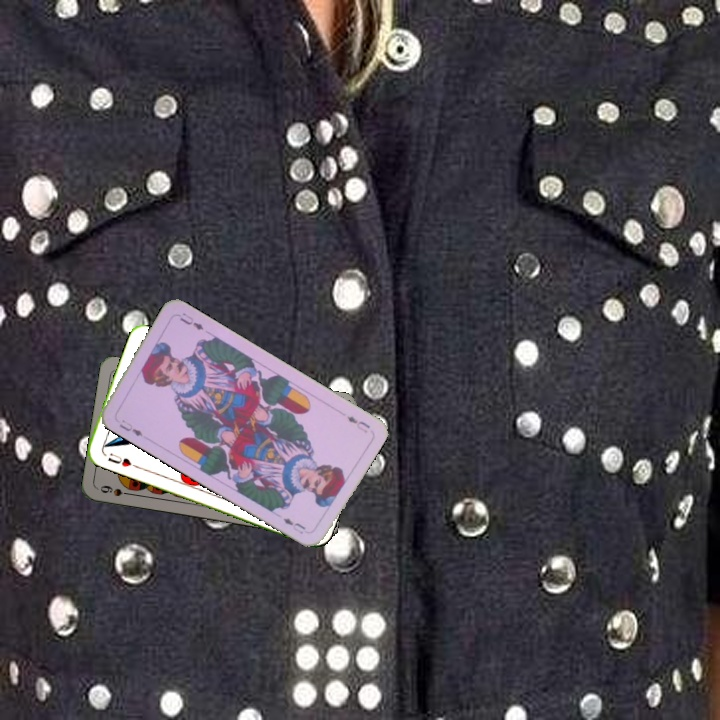EU: (115, 415, 145, 439), (343, 412, 372, 435)
HU: (104, 449, 134, 469)
S9: (96, 481, 136, 499)
